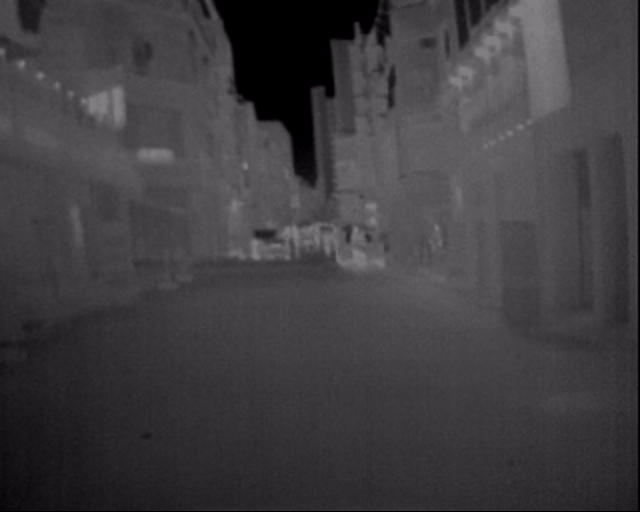person: (344, 215, 375, 273), (319, 212, 343, 269), (306, 208, 327, 265)
